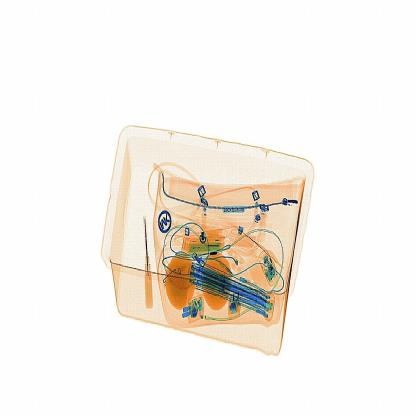wrench: (141, 215, 155, 317)
